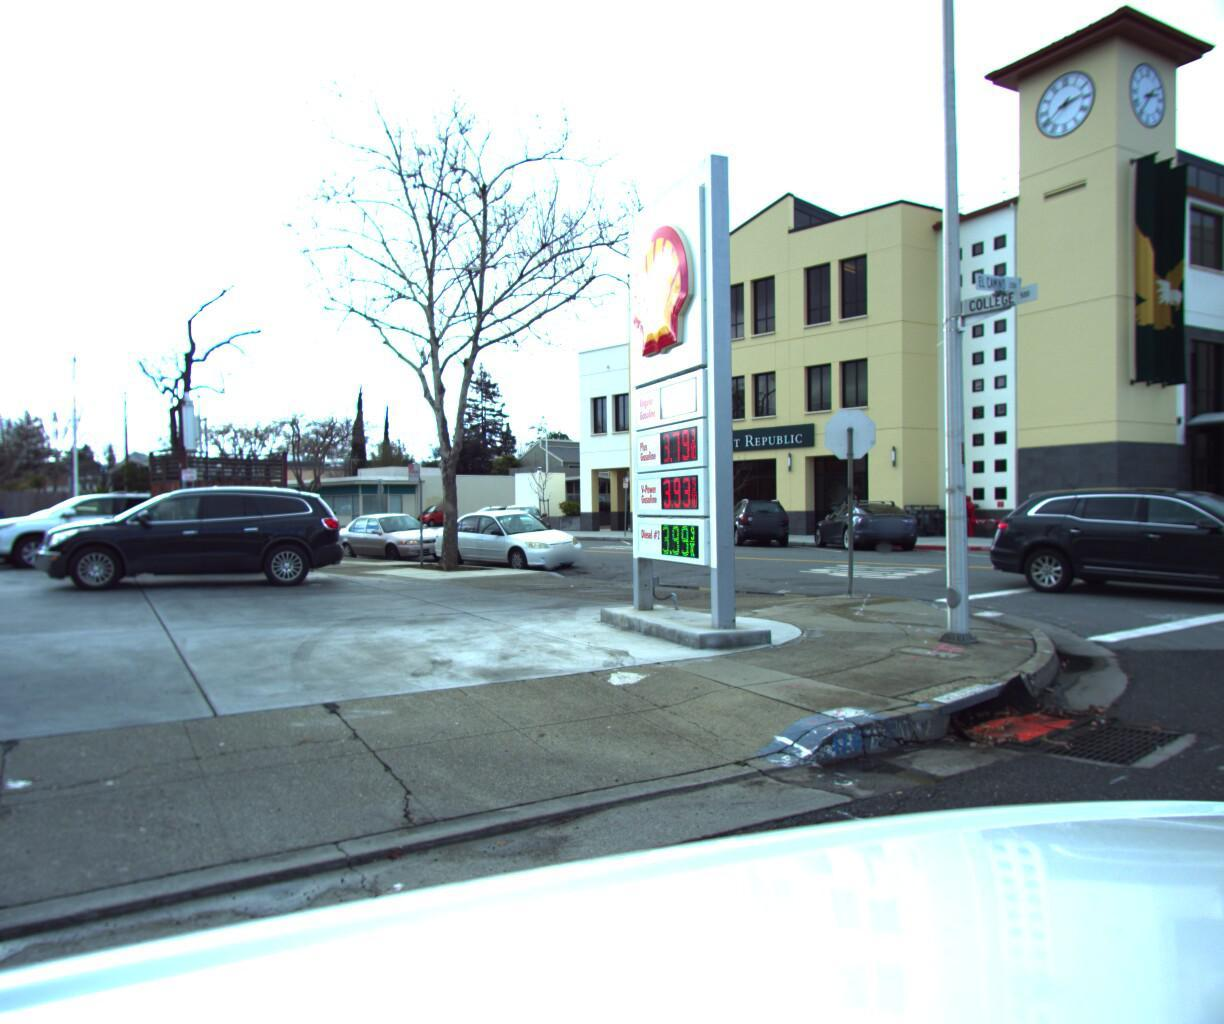car: (18, 479, 356, 603), (986, 475, 1224, 615), (0, 490, 223, 576), (0, 504, 174, 573), (429, 505, 601, 574), (809, 492, 935, 552), (329, 509, 466, 564), (714, 494, 802, 546), (464, 504, 543, 531), (412, 503, 480, 526)
